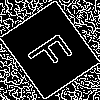F: (25, 25, 83, 77)
